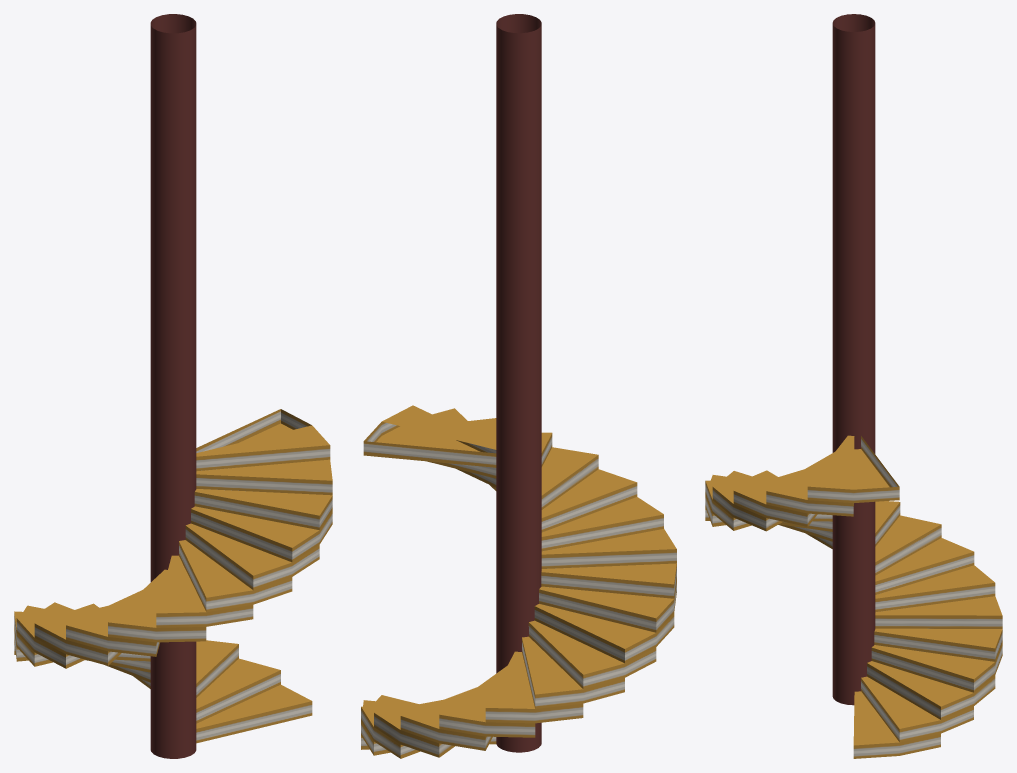
Rendered from BgMD_Akimoto_SpairalStaircase.fbx.
The picture shows the model from 3 angles, left to right: view 1: azimuth 30°, elevation 25°; view 2: azimuth 150°, elevation 25°; view 3: azimuth 270°, elevation 25°; orthographic projection. The views are drawn at different scales.
Visible parts, largest first — view 1: BgMD_SpiralStaircase, BgMD_StairesPillar; view 2: BgMD_SpiralStaircase, BgMD_StairesPillar; view 3: BgMD_SpiralStaircase, BgMD_StairesPillar.
Boxes of the visible parts, bbox=[...] form: BgMD_SpiralStaircase: bbox=[14, 409, 332, 743]; BgMD_StairesPillar: bbox=[150, 14, 196, 758]; BgMD_SpiralStaircase: bbox=[361, 405, 676, 758]; BgMD_StairesPillar: bbox=[496, 14, 541, 752]; BgMD_SpiralStaircase: bbox=[705, 435, 1002, 758]; BgMD_StairesPillar: bbox=[832, 14, 875, 705].
Bounding box in the file's own units: 400 × 1000 × 400.
